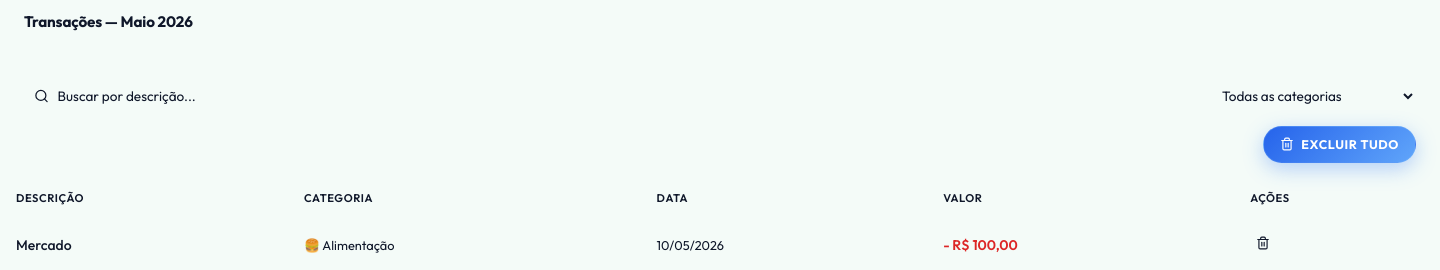
Test: TransactionList — busca com debounce › limpa o input ao clicar no botão X
Type "algo" into the field labelled "Buscar por descrição..." at (609, 96), box x1=24 y1=79 x2=1194 y2=113
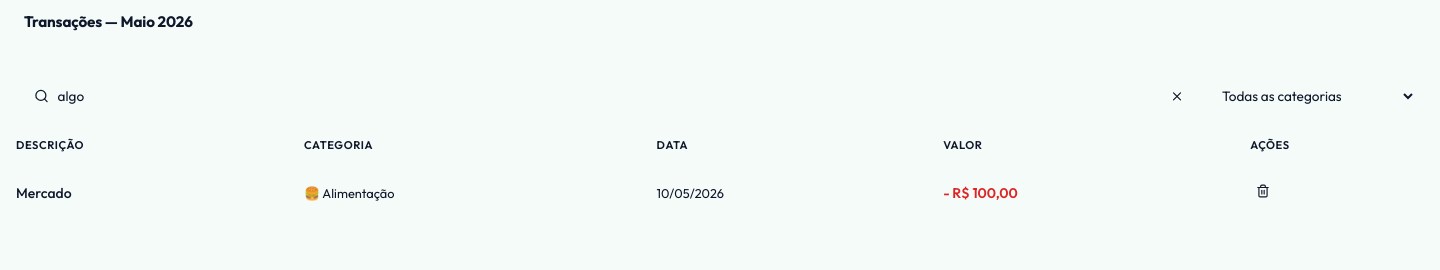
Click the button named "limpar busca" at (1177, 96), box x1=1169 y1=88 x2=1186 y2=105
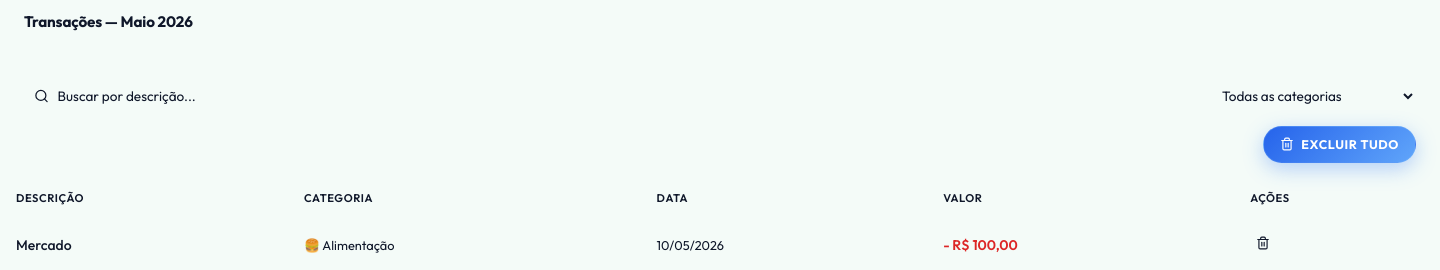
Expected: the field labelled "Buscar por descrição..." is empty, x1=24 y1=79 x2=1194 y2=113
